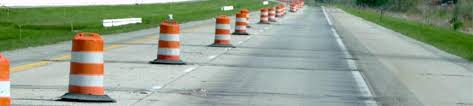barrel: (68, 34, 105, 94), (155, 21, 181, 59), (1, 54, 11, 106), (213, 16, 231, 43), (235, 14, 246, 33), (260, 9, 269, 23), (241, 9, 249, 24), (270, 8, 275, 19)
